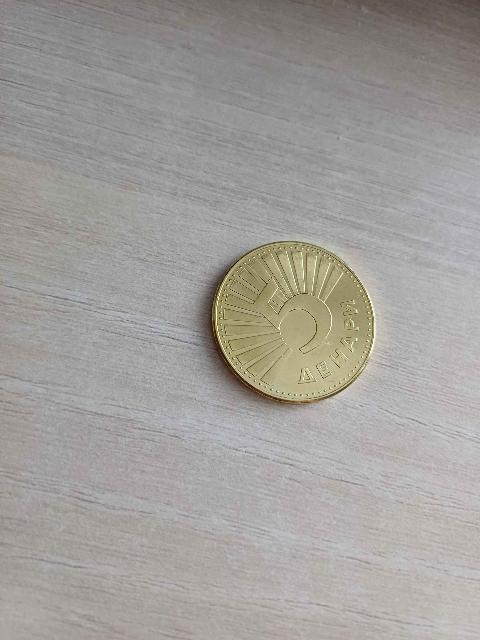5_coin: (212, 224, 380, 397)
